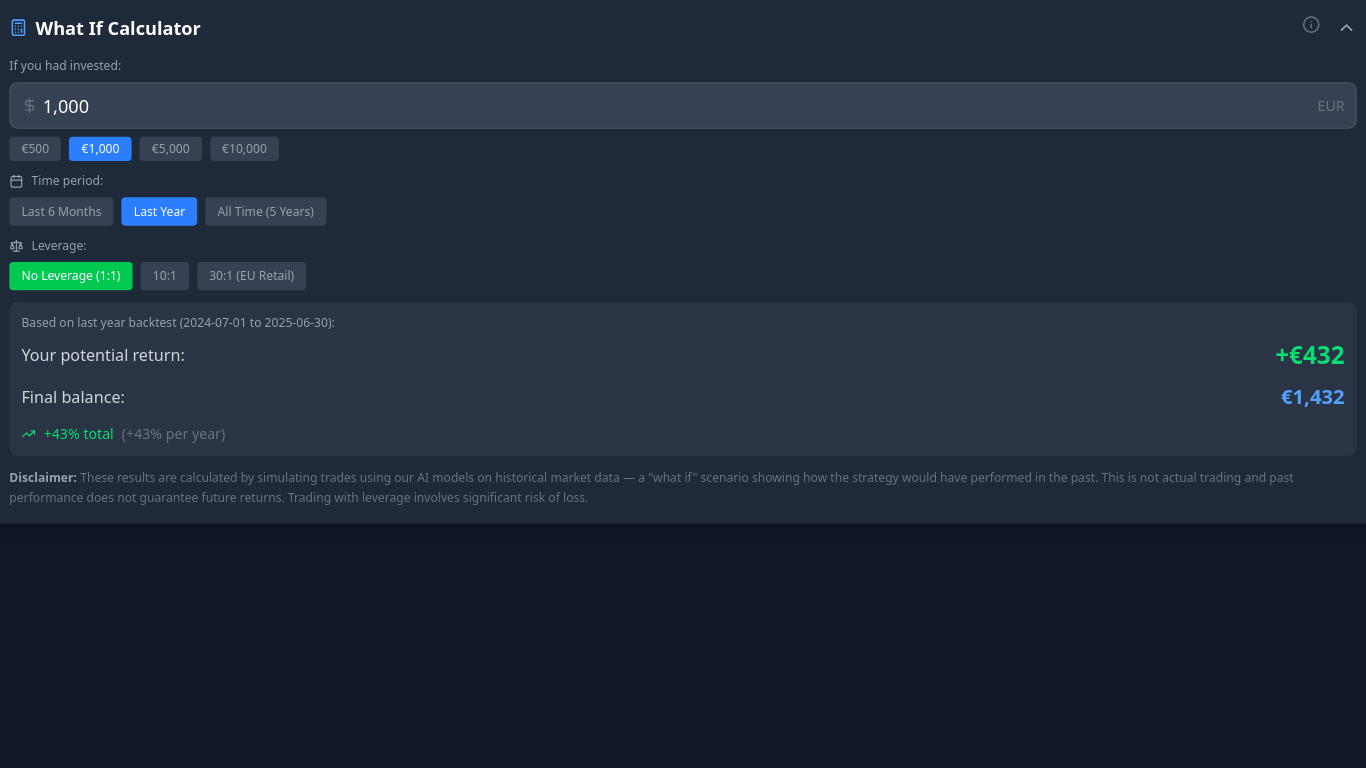
it: InvestmentCalculator › validates input to only accept numbers
The width and height of the screenshot is (1366, 768).
Replace the text in the field named "Investment amount" with "abc123xyz". click: [683, 105]
box: x1=9 y1=82 x2=1357 y2=129
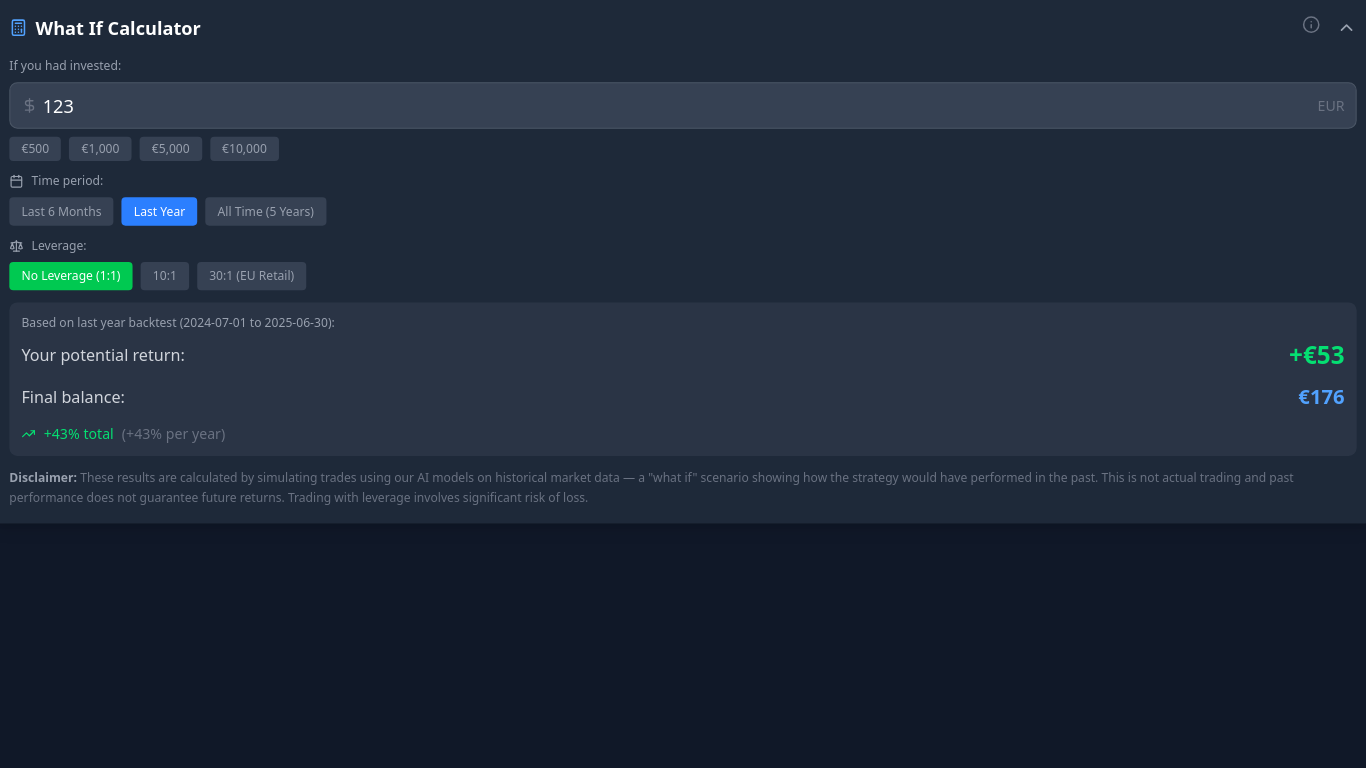
Check: the field named "Investment amount" holds "123", box x1=9 y1=82 x2=1357 y2=129
